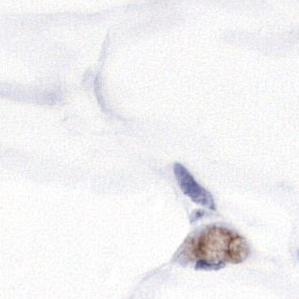Lymphocyte: (190, 223, 244, 265)
